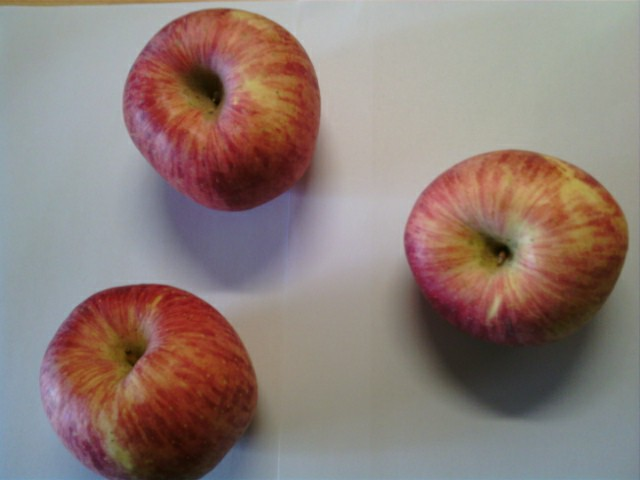normal_apple: (403, 149, 633, 351), (39, 281, 258, 480), (123, 8, 321, 214)
